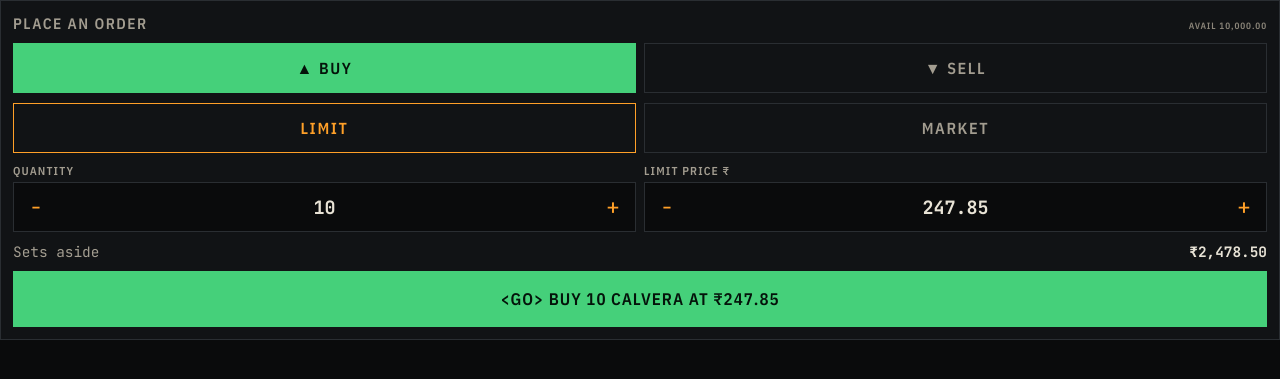
Test: the order ticket (terminal theme) › explains a price off the 5-paise tick and sends nothing
Replace the text in the field labelled "Limit price ₹" with "247.83" at (956, 207), box top-left (689, 183), bottom-right (1222, 231)
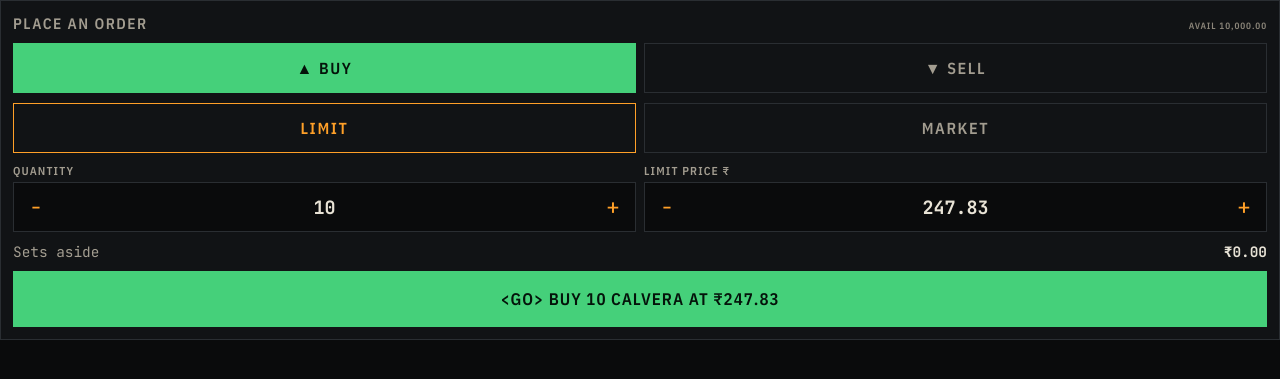
Click the button "<GO> BUY 10 CALVERA AT ₹247.83" at (640, 299), box top-left (13, 271), bottom-right (1267, 327)
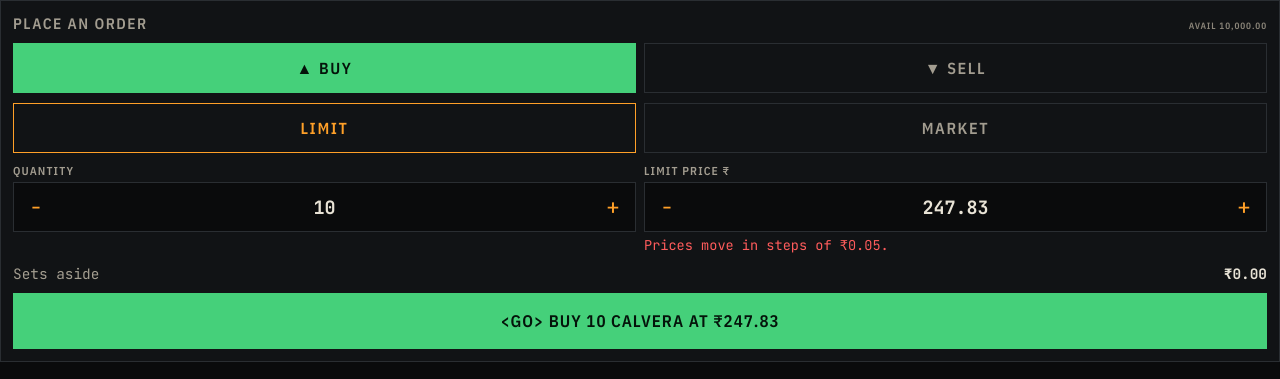
Result: the message reads "Prices move in steps of ₹0.05." at top-left (644, 236), bottom-right (889, 254)
